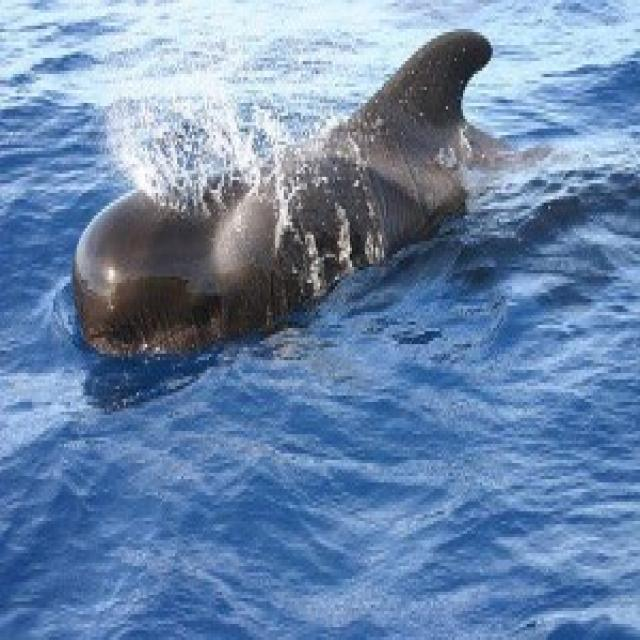Dolphin: (69, 9, 508, 380)
